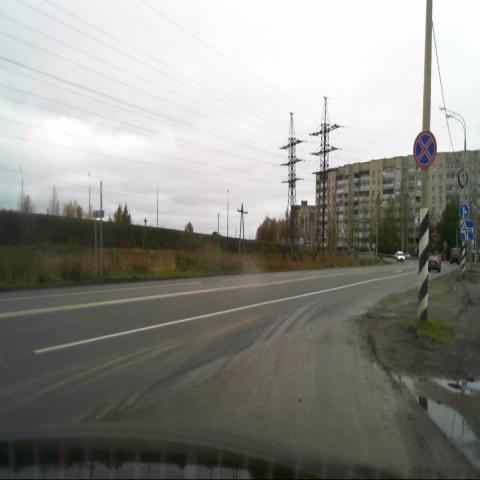3_27: (412, 131, 436, 169)
